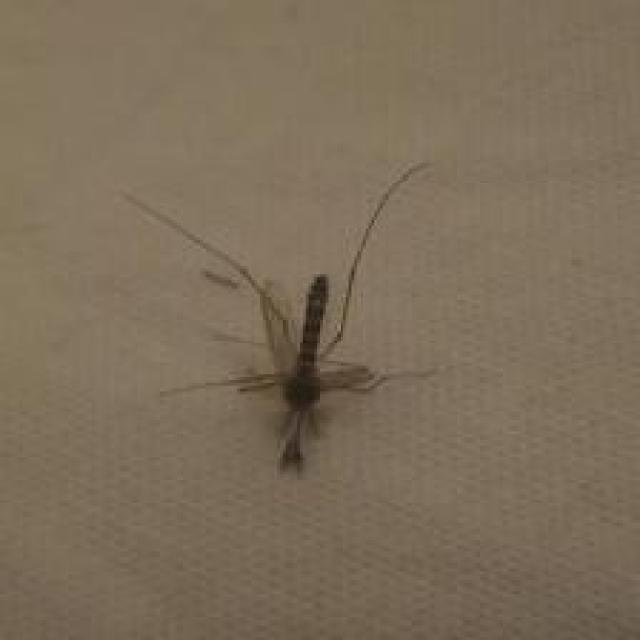Culex: (120, 158, 443, 476)
